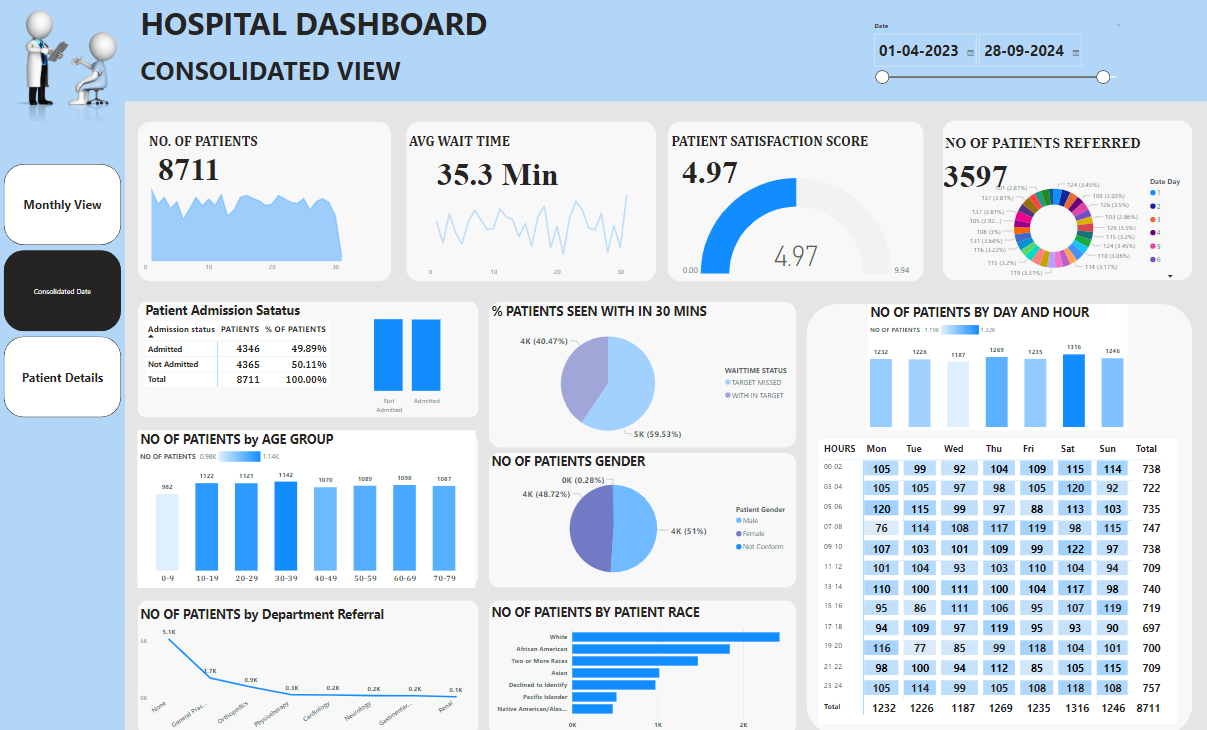

The page's visual inventory and layout, read from the dashboard file:
{"tool":"powerbi","page":{"name":"Consolidated Date","canvas":[2300,1400],"ordinal":1},"visuals":[{"type":"shape","box":[0,0,237.8,1400.5],"z":0},{"type":"shape","box":[237.8,0,2061.5,195],"z":1000},{"type":"textbox","box":[261.6,0,703.8,97.5],"z":2000},{"type":"shape","box":[1792.8,230.6,475.5,304.3],"z":3000},{"type":"textbox","box":[261.6,97.5,539.7,90.4],"z":4000},{"type":"shape","box":[261.6,233,482.7,304.3],"z":5000},{"type":"card","fields":{"Values":["Hospital Data.NO OF PATIENTS"]},"box":[278.2,275.8,164.1,85.6],"z":6000},{"type":"slicer","fields":{"Values":["Date Table.Date"]},"box":[1650.1,38,494.6,123.6],"z":7000},{"type":"textbox","box":[278.2,249.7,247.3,52.3],"z":9000},{"type":"stackedAreaChart","fields":{"Category":["Date Table.Date.Variation.Date Hierarchy.Day"],"Y":["Hospital Data.NO OF PATIENTS"]},"box":[261.6,321,451.8,206.9],"z":10000},{"type":"shape","box":[772.8,233,475.5,304.3],"z":12000},{"type":"shape","box":[1269.7,233,487.4,304.3],"z":13000},{"type":"textbox","box":[772.8,249.7,273.4,71.3],"z":14000},{"type":"textbox","box":[1272.1,249.7,406.6,59.4],"z":15000},{"type":"textbox","box":[1792.8,254.4,418.5,59.4],"z":16000},{"type":"card","fields":{"Values":["Hospital Data.SATISFACTION SCORE"]},"box":[1248.3,280.6,204.5,85.6],"z":17000},{"type":"card","fields":{"Values":["Hospital Data.AVG WAIT TIME"]},"box":[801.3,285.3,292.5,85.6],"z":18000},{"type":"donutChart","fields":{"Category":["Date Table.Date.Variation.Date Hierarchy.Day"],"Y":["Hospital Data.NO OF PATIENTS REFERED"]},"box":[1816.6,332.9,451.8,206.9],"z":19000},{"type":"lineChart","fields":{"Category":["Date Table.Date.Variation.Date Hierarchy.Day"],"Y":["Avg(Hospital Data.Patient Waittime)"]},"box":[803.7,330.5,451.8,206.9],"z":20000},{"type":"card","fields":{"Values":["Hospital Data.NO OF PATIENTS REFERED"]},"box":[1757.1,287.7,197.4,85.6],"z":21000},{"type":"gauge","fields":{"Y":["Hospital Data.SATISFACTION SCORE"]},"box":[1288.7,330.5,451.8,206.9],"z":22000},{"type":"shape","box":[261.6,575.4,649.1,221.1],"z":23000},{"type":"pivotTable","title":"Patient Admission Satatus","fields":{"Rows":["Hospital Data.Admission status"],"Values":["Hospital Data.NO OF PATIENTS1","Hospital Data.NO OF PATIENTS"]},"box":[271.1,575.4,632.5,221.1],"z":24000},{"type":"shape","box":[261.6,820.3,649.1,299.6],"z":25000},{"type":"columnChart","fields":{"Category":["Hospital Data.Admission status"],"Y":["Hospital Data.NO OF PATIENTS"]},"box":[642,575.4,268.7,221.1],"z":26000},{"type":"shape","box":[929.7,575.4,584.9,278.2],"z":27000},{"type":"clusteredColumnChart","fields":{"Category":["Hospital Data.AGE GROUP"],"Y":["Hospital Data.NO OF PATIENTS"]},"box":[262,820,642,300],"z":28000},{"type":"shape","box":[1533.6,580.2,734.7,820.3],"z":29000},{"type":"shape","box":[261.6,1143.7,649.1,256.8],"z":30000},{"type":"pivotTable","fields":{"Rows":["Hospital Data.WAITTIME INTERVAL"],"Columns":["Date Table.Day Name"],"Values":["Hospital Data.NO OF PATIENTS"]},"box":[1557.4,837,682.4,542.1],"z":31000},{"type":"lineChart","fields":{"Category":["Hospital Data.Department Referral"],"Y":["Hospital Data.NO OF PATIENTS"]},"box":[262,1154,642,246],"z":32000},{"type":"shape","box":[929.7,1143.7,584.9,256.8],"z":33000},{"type":"pieChart","title":"% PATIENTS SEEN WITH IN 30 MINS","fields":{"Category":["Hospital Data.WAITTIME STATUS"],"Y":["Hospital Data.NO OF PATIENTS"]},"box":[929.7,577.8,584.9,275.8],"z":34000},{"type":"shape","box":[929.7,863.1,584.9,256.8],"z":35000},{"type":"pieChart","title":"NO OF PATIENTS GENDER","fields":{"Y":["Hospital Data.NO OF PATIENTS"],"Category":["Hospital Data.Patient Gender"]},"box":[929.7,863.1,584.9,256.8],"z":36000},{"type":"clusteredBarChart","title":"NO OF PATIENTS BY PATIENT RACE","fields":{"Category":["Hospital Data.Patient Race"],"Y":["Hospital Data.NO OF PATIENTS"]},"box":[929.7,1150.8,584.9,247.3],"z":37000},{"type":"clusteredColumnChart","title":"NO OF PATIENTS BY DAY AND HOUR ","fields":{"Category":["Date Table.Day Name"],"Y":["Hospital Data.NO OF PATIENTS"]},"box":[1650.1,580.2,494.6,240.2],"z":38000},{"type":"image","box":[0,16.6,237.8,230.6],"z":39000},{"type":"pageNavigator","box":[7.1,313.9,223.5,482.7],"z":39001}]}

Visuals, with their boxes in screenshot pixels (x1, y1, x2, y2), scaled from the page's 2300x1400 canvas onto the 1207x730 screenshot:
shape: x1=0 y1=0 x2=125 y2=729
shape: x1=125 y1=0 x2=1206 y2=102
textbox: x1=137 y1=0 x2=507 y2=51
shape: x1=941 y1=120 x2=1190 y2=279
textbox: x1=137 y1=51 x2=421 y2=98
shape: x1=137 y1=121 x2=391 y2=280
card - Hospital Data.NO OF PATIENTS: x1=146 y1=144 x2=232 y2=188
slicer - Date Table.Date: x1=866 y1=20 x2=1126 y2=84
textbox: x1=146 y1=130 x2=276 y2=157
stackedAreaChart - Date Table.Date.Variation.Date Hierarchy.Day x Hospital Data.NO OF PATIENTS: x1=137 y1=167 x2=374 y2=275
shape: x1=406 y1=121 x2=655 y2=280
shape: x1=666 y1=121 x2=922 y2=280
textbox: x1=406 y1=130 x2=549 y2=167
textbox: x1=668 y1=130 x2=881 y2=161
textbox: x1=941 y1=133 x2=1160 y2=164
card - Hospital Data.SATISFACTION SCORE: x1=655 y1=146 x2=762 y2=191
card - Hospital Data.AVG WAIT TIME: x1=421 y1=149 x2=574 y2=193
donutChart - Date Table.Date.Variation.Date Hierarchy.Day x Hospital Data.NO OF PATIENTS REFERED: x1=953 y1=174 x2=1190 y2=281
lineChart - Date Table.Date.Variation.Date Hierarchy.Day x Avg(Hospital Data.Patient Waittime): x1=422 y1=172 x2=659 y2=280
card - Hospital Data.NO OF PATIENTS REFERED: x1=922 y1=150 x2=1026 y2=195
gauge - Hospital Data.SATISFACTION SCORE: x1=676 y1=172 x2=913 y2=280
shape: x1=137 y1=300 x2=478 y2=415
"Patient Admission Satatus" pivotTable: x1=142 y1=300 x2=474 y2=415
shape: x1=137 y1=428 x2=478 y2=584
columnChart - Hospital Data.Admission status x Hospital Data.NO OF PATIENTS: x1=337 y1=300 x2=478 y2=415
shape: x1=488 y1=300 x2=795 y2=445
clusteredColumnChart - Hospital Data.AGE GROUP x Hospital Data.NO OF PATIENTS: x1=137 y1=428 x2=474 y2=584
shape: x1=805 y1=303 x2=1190 y2=729
shape: x1=137 y1=596 x2=478 y2=729
pivotTable - Hospital Data.WAITTIME INTERVAL x Date Table.Day Name: x1=817 y1=436 x2=1175 y2=719
lineChart - Hospital Data.Department Referral x Hospital Data.NO OF PATIENTS: x1=137 y1=602 x2=474 y2=729
shape: x1=488 y1=596 x2=795 y2=729
"% PATIENTS SEEN WITH IN 30 MINS" pieChart: x1=488 y1=301 x2=795 y2=445
shape: x1=488 y1=450 x2=795 y2=584
"NO OF PATIENTS GENDER" pieChart: x1=488 y1=450 x2=795 y2=584
"NO OF PATIENTS BY PATIENT RACE" clusteredBarChart: x1=488 y1=600 x2=795 y2=729
"NO OF PATIENTS BY DAY AND HOUR " clusteredColumnChart: x1=866 y1=303 x2=1126 y2=428
image: x1=0 y1=9 x2=125 y2=129
pageNavigator: x1=4 y1=164 x2=121 y2=415
